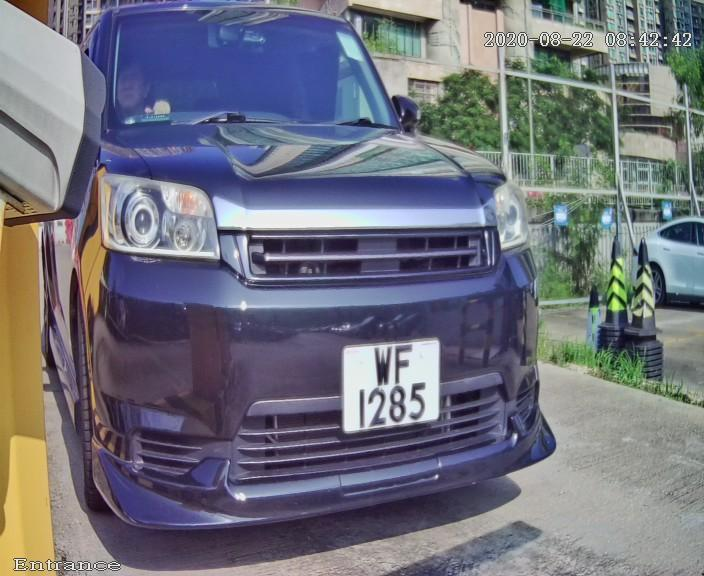Car: (29, 1, 585, 574)
License Plate: (334, 327, 447, 445)
